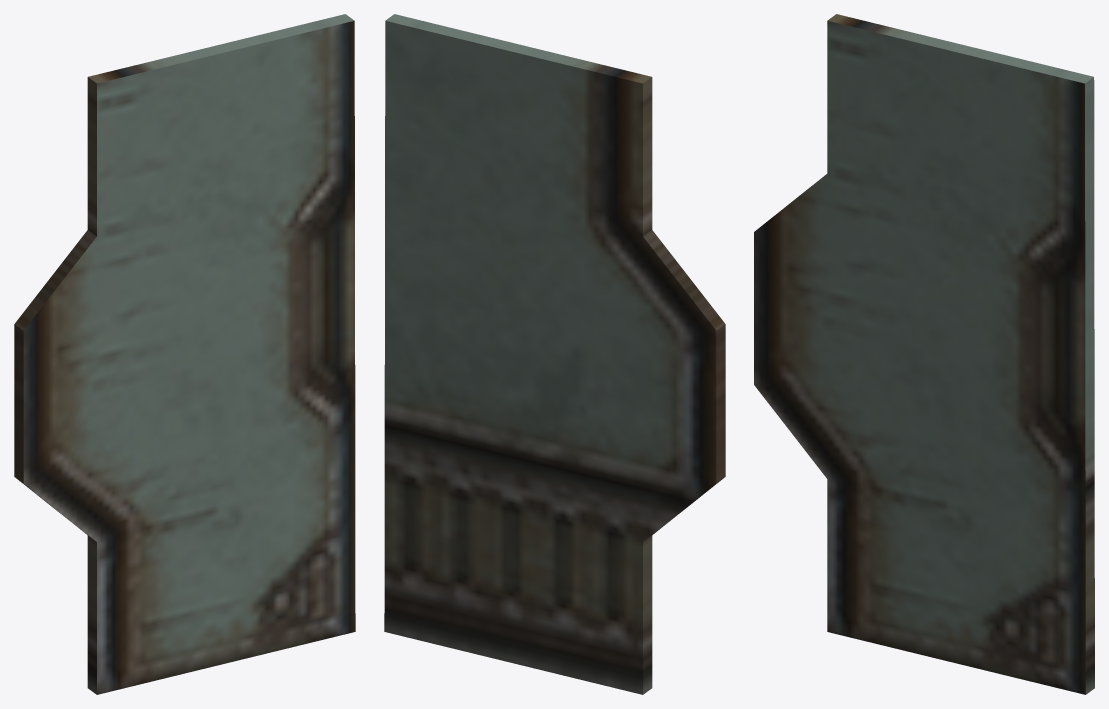
The model's file is door_bulk_right.fbx.
3 views of the same model, side by side, from view 1: azimuth 30°, elevation 25°; view 2: azimuth 150°, elevation 25°; view 3: azimuth 330°, elevation 25° (orthographic).
Visible parts, largest first — view 1: BulkDoorRight; view 2: BulkDoorRight; view 3: BulkDoorRight.
Boxes of the visible parts, x1=… form: BulkDoorRight: x1=14, y1=14, x2=355, y2=694; BulkDoorRight: x1=384, y1=14, x2=725, y2=694; BulkDoorRight: x1=754, y1=14, x2=1094, y2=694.
Size of the model in its own units: 243 by 428 by 11.64.
Materials: 1 (1 with a texture image).
